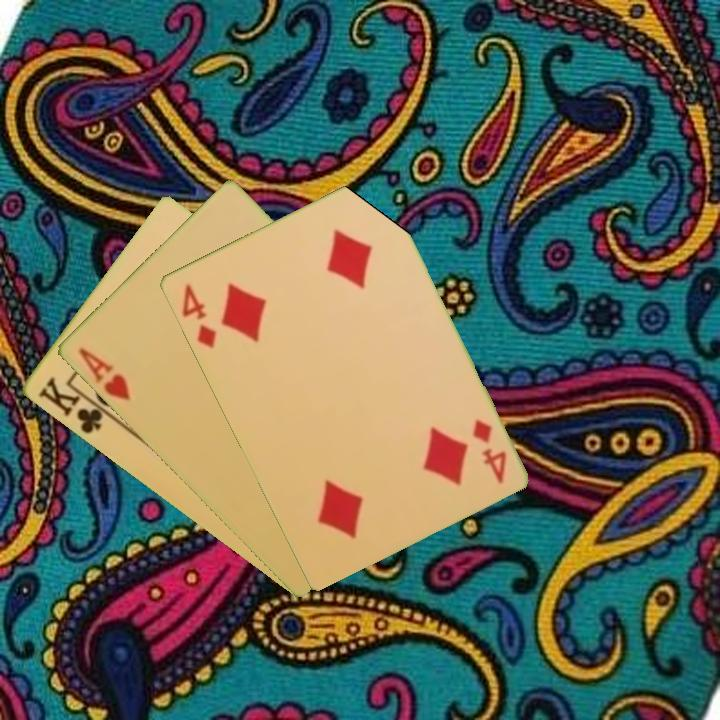4d: (177, 279, 219, 352), (468, 415, 509, 487)
Ah: (74, 344, 133, 404)
Kc: (34, 373, 114, 437)
